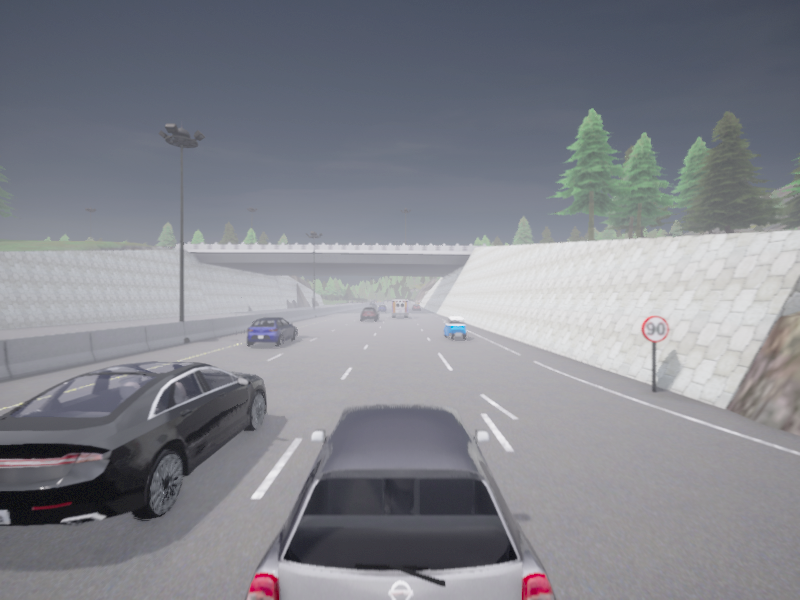vehicle: (245, 403, 556, 599), (0, 361, 266, 525), (246, 317, 297, 345), (443, 316, 465, 339), (391, 300, 408, 316), (361, 307, 378, 320), (378, 305, 386, 311), (412, 304, 420, 310), (369, 302, 376, 308)
